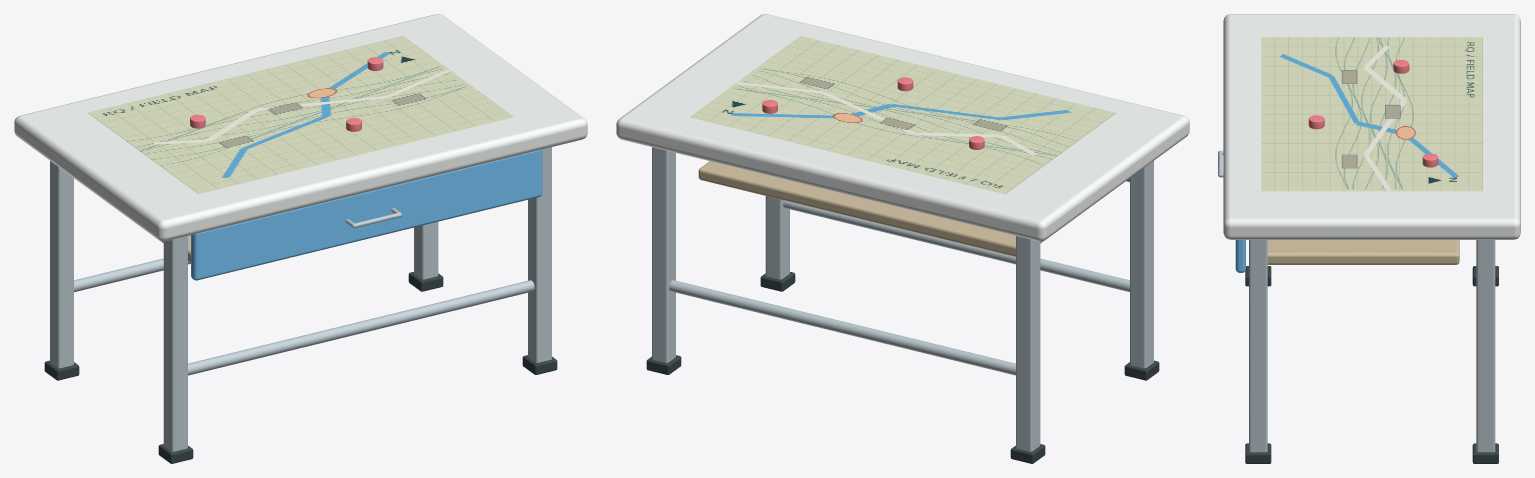
The model's file is mission_table.glb.
3 views of the same model, side by side, from view 1: azimuth 30°, elevation 25°; view 2: azimuth 150°, elevation 25°; view 3: azimuth 270°, elevation 25° (orthographic).
Parts seen in each view (by area): view 1: Tabletop, Field_Map, Drawer_Front, Leg_2, Leg, Brace_2, Leg_4, Leg_3, Brace; view 2: Tabletop, Field_Map, Drawer_Base, Leg, Leg_3, Leg_2, Brace, Brace_2, Leg_4; view 3: Field_Map, Tabletop, Drawer_Base, Leg_3, Leg_4, Foot_4, Foot_3, Drawer_Front.
Boxes of the visible parts, x1,y1,x2,y2 form: Tabletop: [14, 14, 587, 241]; Field_Map: [88, 36, 513, 193]; Drawer_Front: [191, 149, 542, 280]; Leg_2: [163, 236, 187, 451]; Leg: [50, 161, 73, 368]; Brace_2: [188, 280, 534, 375]; Leg_4: [528, 147, 551, 362]; Leg_3: [414, 222, 438, 279]; Brace: [74, 258, 190, 292]; Tabletop: [616, 14, 1189, 241]; Field_Map: [690, 36, 1115, 193]; Drawer_Base: [698, 161, 1043, 256]; Leg: [1016, 236, 1040, 451]; Leg_3: [652, 147, 675, 362]; Leg_2: [1130, 161, 1153, 368]; Brace: [669, 280, 1015, 375]; Brace_2: [783, 200, 1129, 292]; Leg_4: [765, 196, 789, 279]; Field_Map: [1261, 37, 1482, 191]; Tabletop: [1223, 14, 1520, 239]; Drawer_Base: [1267, 240, 1459, 264]; Leg_3: [1476, 240, 1495, 452]; Leg_4: [1249, 240, 1267, 452]; Foot_4: [1245, 443, 1271, 463]; Foot_3: [1472, 443, 1498, 463]; Drawer_Front: [1235, 240, 1245, 272].
Size of the model in its own units: 1.7 by 0.9985 by 1.04.
7 materials, 1 textured.
